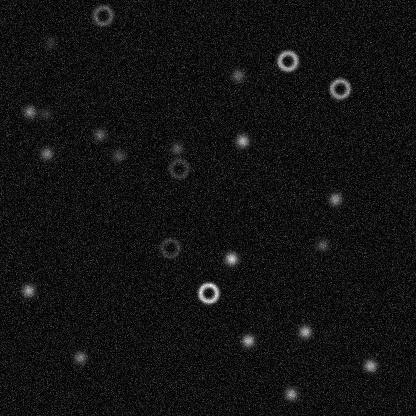Ring: (158, 235, 182, 259), (327, 76, 351, 100), (166, 156, 190, 180), (90, 3, 114, 27), (196, 280, 220, 304), (275, 48, 299, 72)
Spot: (282, 385, 298, 401), (37, 105, 53, 121), (229, 67, 245, 83), (71, 349, 87, 365), (296, 323, 312, 339), (168, 140, 184, 156), (91, 126, 107, 142), (327, 190, 343, 206), (223, 250, 239, 266), (21, 103, 37, 119), (362, 357, 378, 373), (42, 34, 58, 50), (20, 282, 36, 298), (234, 132, 250, 148), (240, 332, 256, 348), (110, 147, 126, 163), (314, 237, 330, 253), (38, 145, 54, 161)
